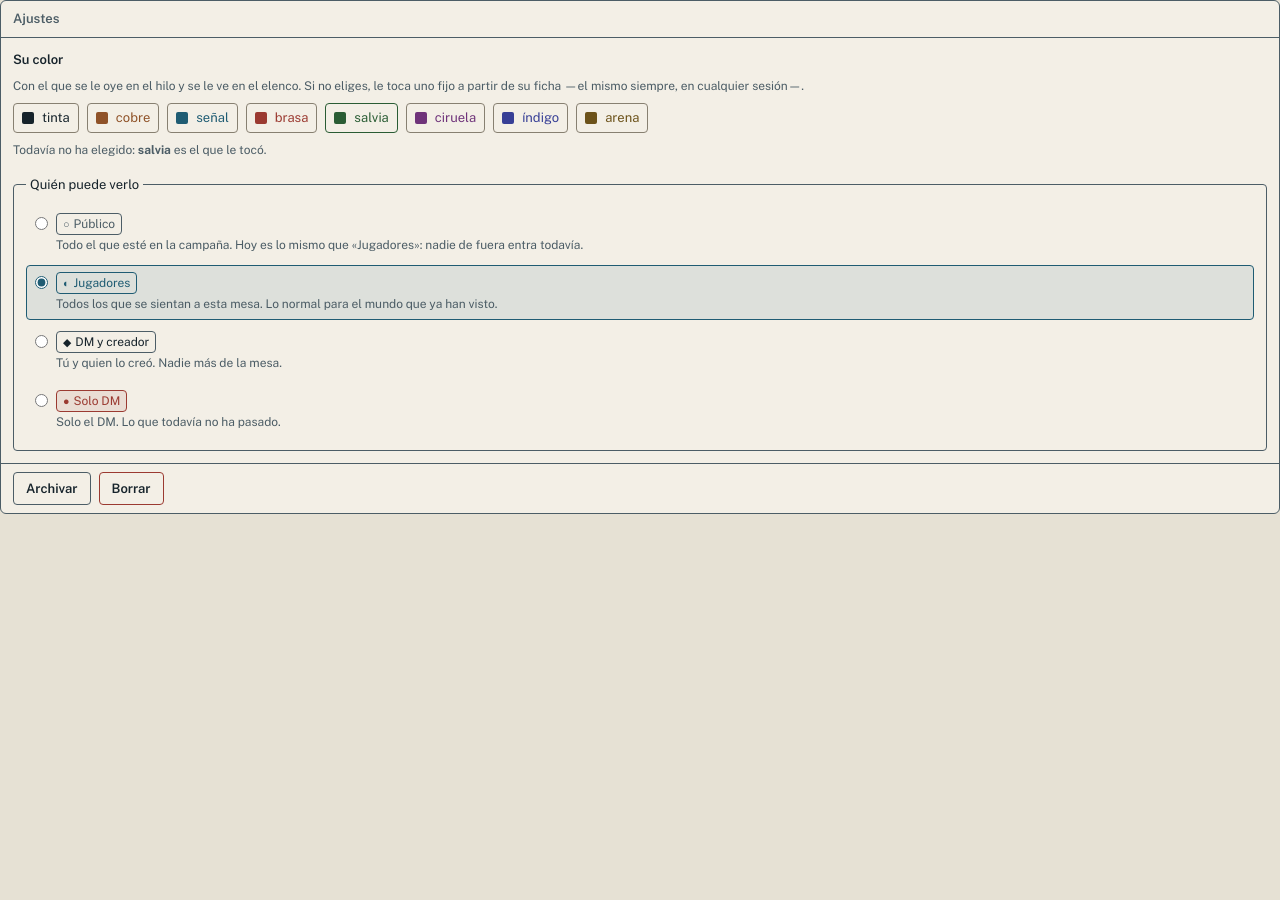
Test: Archivar — el gesto fácil, en la ficha del personaje › un rechazo del servidor se lee en línea y el personaje no se da por archivado
Step 1. Click the button "Archivar" → {"x": 52, "y": 488}, box [13, 472, 90, 505]
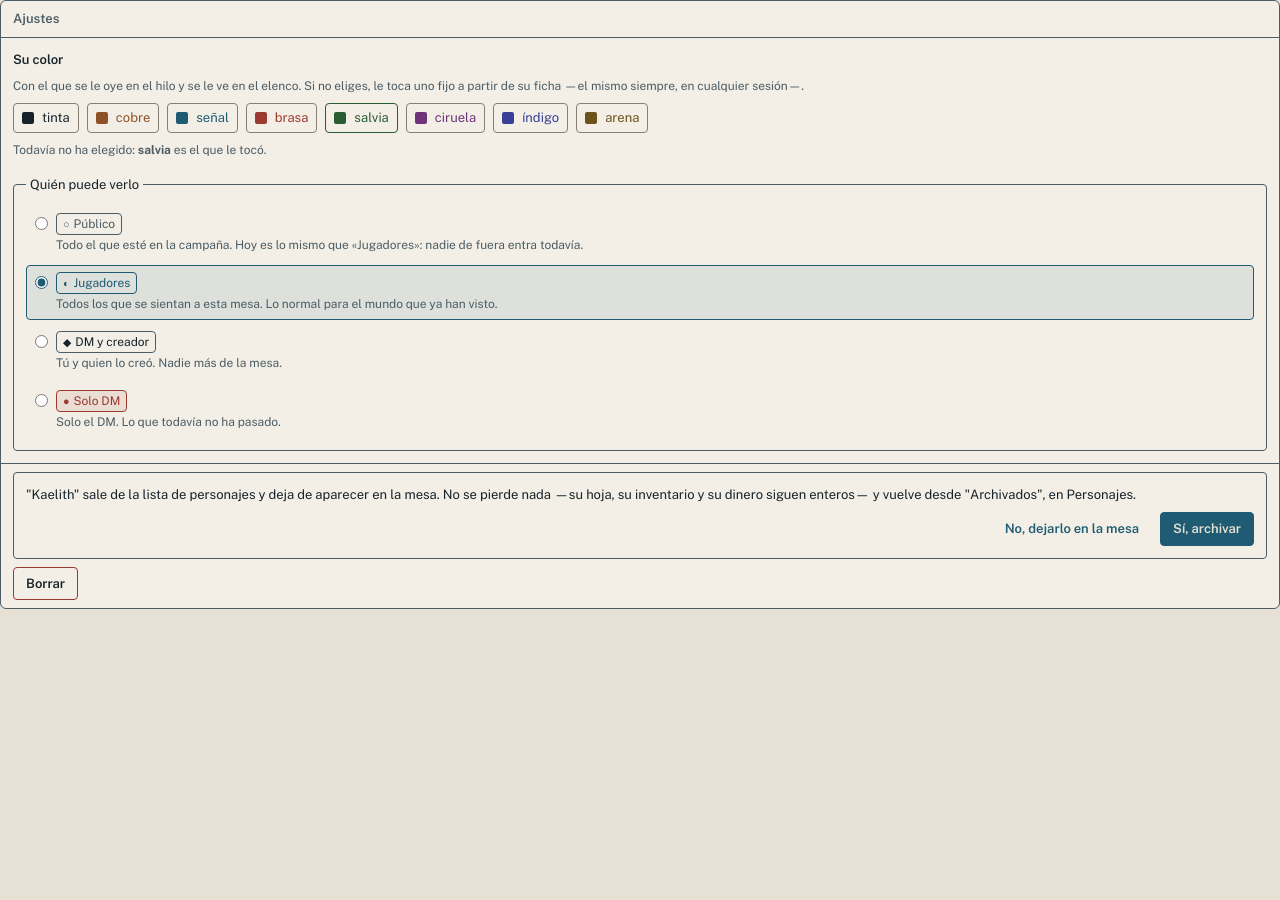
Step 2. Click the button "Sí, archivar" → {"x": 1207, "y": 529}, box [1160, 512, 1254, 546]
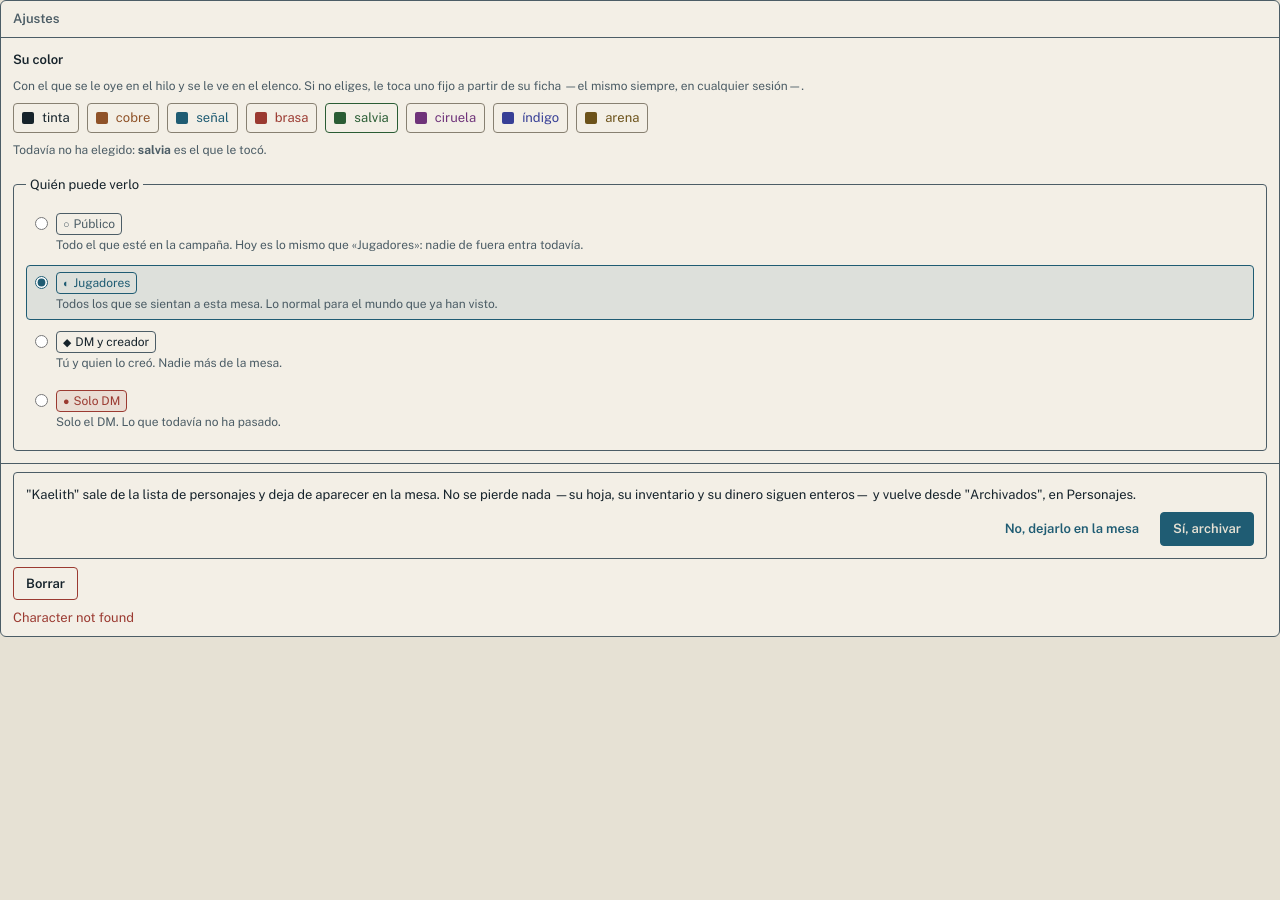
Expected: the text "Character not found" is shown, [13, 610, 134, 625]
